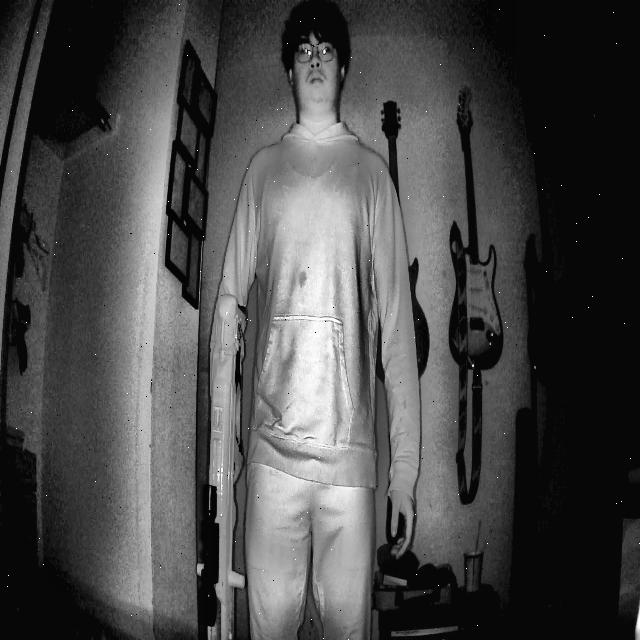Nerf_Blaster: (184, 266, 265, 640)
